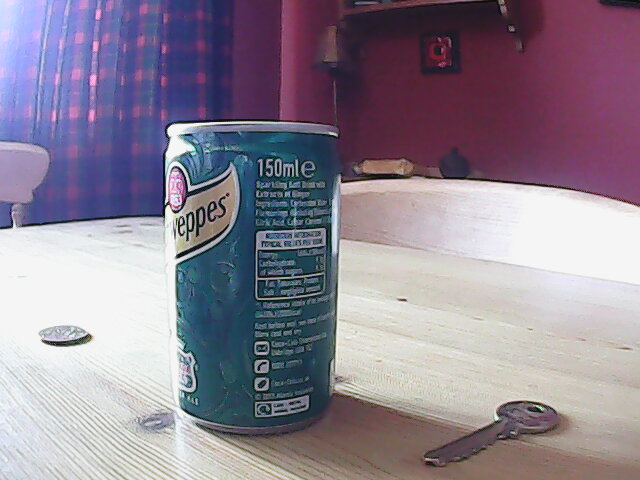Can: (160, 121, 343, 440)
Coin: (36, 320, 91, 349)
Key: (421, 397, 559, 475)
